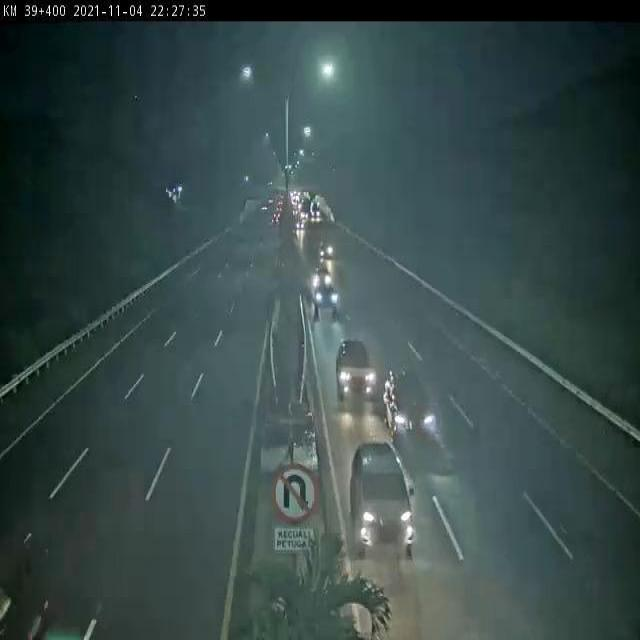car: (350, 440, 414, 556), (384, 368, 439, 444), (335, 339, 378, 400), (313, 280, 339, 313)
